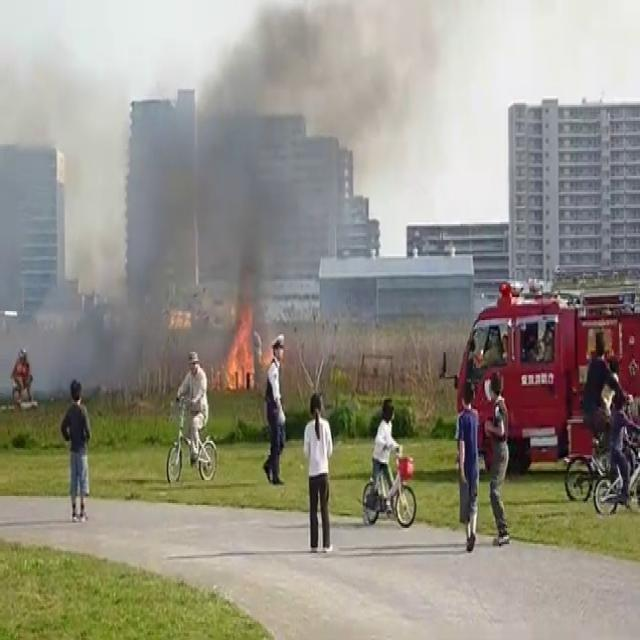Fire: (220, 300, 263, 393)
Smoke: (74, 0, 453, 341)
